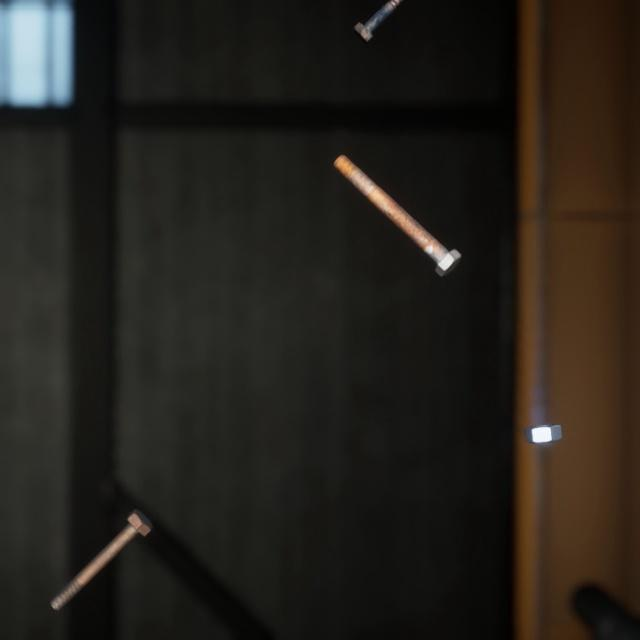bolt: (329, 136, 465, 266), (45, 483, 157, 593), (349, 0, 402, 42)
nut: (520, 399, 566, 427)
